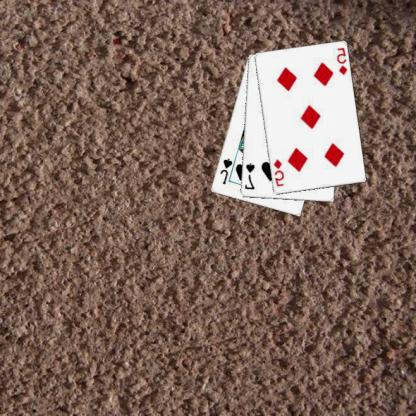5D: (273, 157, 287, 188), (336, 45, 350, 76)
7S: (244, 161, 258, 191)
JS: (219, 155, 235, 186)
